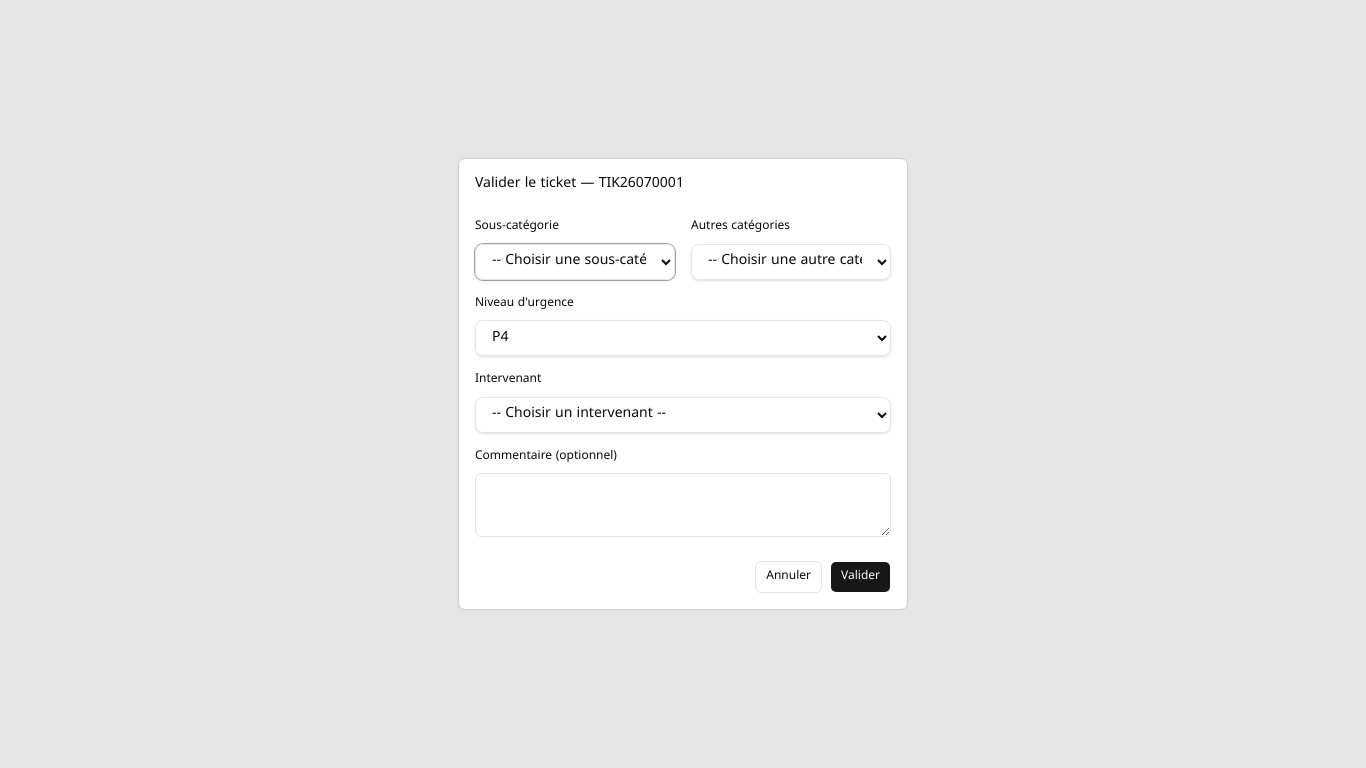
TikActionDialog › affiche une erreur si on valide sans choisir d'intervenant
Step 1. Click the button "Valider" → (860, 577), box [830,561,891,593]
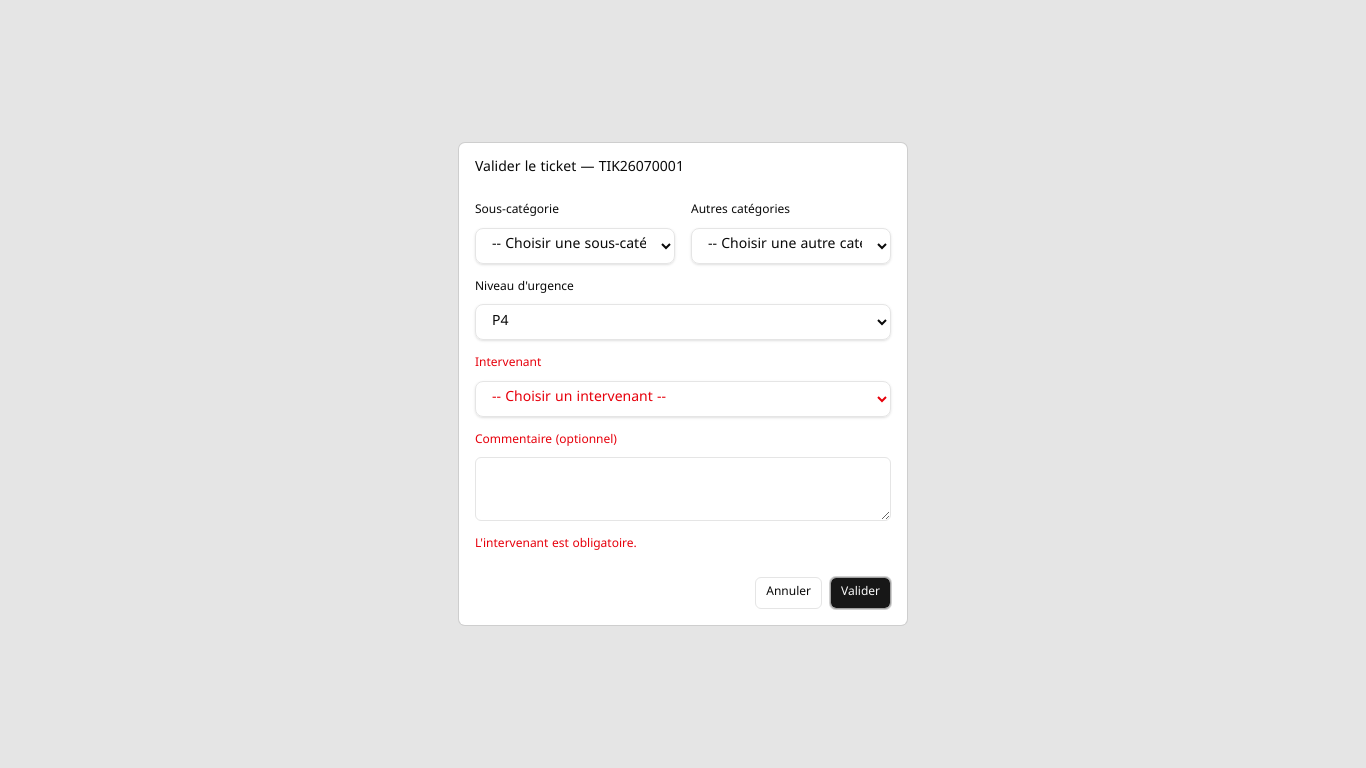
Now the text "L'intervenant est obligatoire." is shown, box [475,536,637,554]
